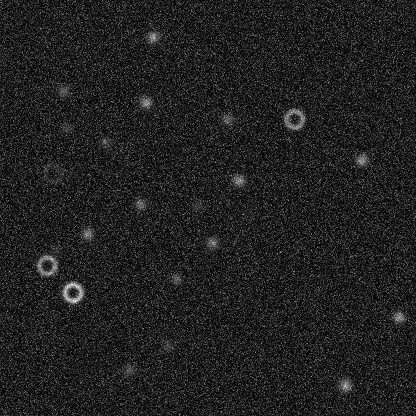Ring: (34, 253, 58, 277), (60, 280, 84, 304), (40, 161, 64, 185), (282, 107, 306, 131)
Spot: (353, 151, 369, 167), (137, 94, 153, 110), (58, 120, 74, 136), (47, 243, 63, 259), (219, 111, 235, 127), (243, 206, 259, 222), (204, 234, 220, 250), (97, 133, 113, 149), (390, 309, 406, 325), (79, 225, 95, 241), (132, 196, 148, 212), (55, 83, 71, 99), (168, 271, 184, 287), (121, 362, 137, 378), (337, 377, 353, 393), (189, 196, 205, 212), (144, 28, 160, 44), (230, 172, 246, 188), (159, 337, 175, 353)
